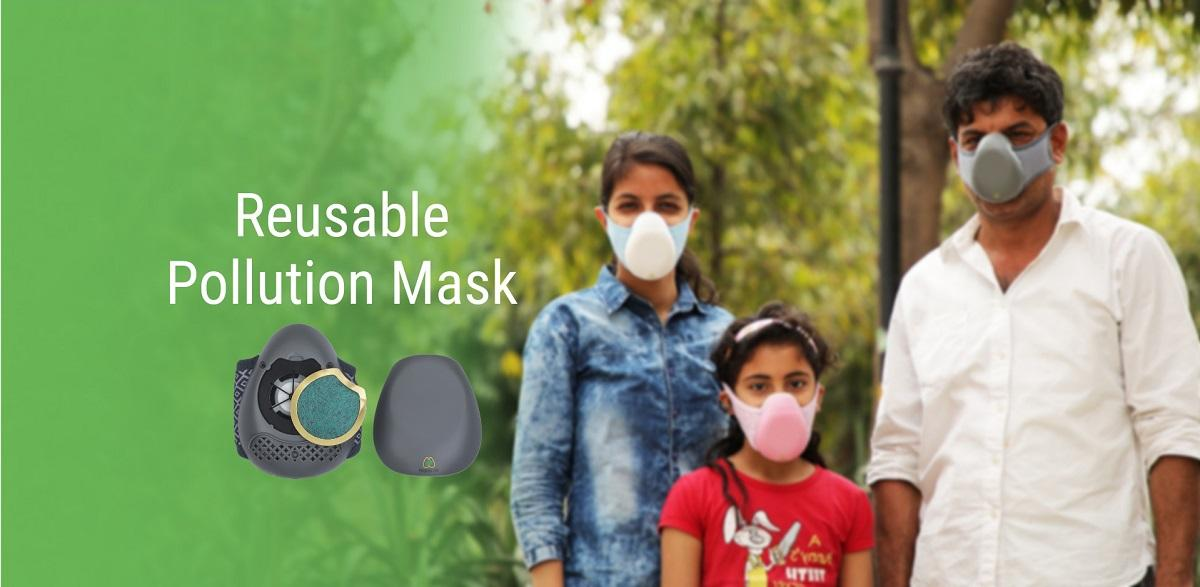Wearing Mask: (912, 75, 1119, 235), (703, 289, 855, 488), (578, 133, 731, 295)
